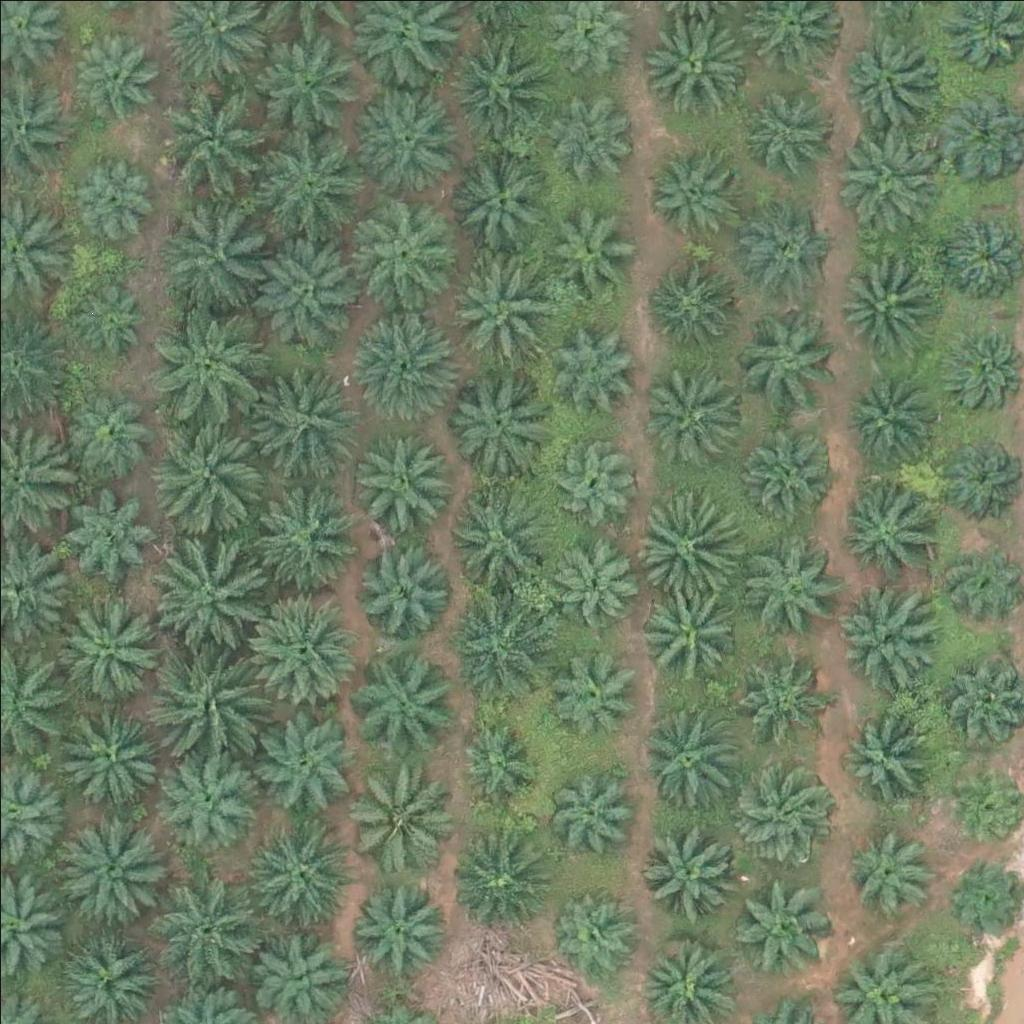Kelapa_Sawit: (245, 367, 358, 481), (155, 642, 268, 755), (146, 413, 259, 526), (252, 232, 365, 345), (245, 478, 358, 591), (348, 641, 461, 754), (346, 306, 459, 419), (440, 244, 553, 357), (442, 486, 555, 599), (441, 586, 554, 699), (247, 820, 360, 933), (152, 307, 264, 421), (443, 29, 555, 143), (632, 486, 744, 600), (828, 120, 940, 234), (51, 590, 163, 703), (150, 530, 262, 643), (161, 198, 273, 311), (156, 88, 268, 201), (254, 33, 366, 146), (255, 124, 367, 237), (247, 594, 359, 707), (348, 77, 460, 190), (639, 8, 751, 121), (53, 815, 165, 928), (149, 870, 261, 983), (339, 757, 451, 870), (56, 480, 156, 581), (356, 535, 456, 636), (348, 431, 448, 532), (352, 194, 452, 295), (456, 150, 556, 251), (445, 367, 545, 468), (646, 142, 746, 243), (633, 575, 733, 676), (741, 527, 841, 628), (739, 417, 839, 518), (734, 73, 834, 174), (834, 481, 934, 582), (66, 701, 166, 802), (157, 746, 257, 847), (257, 711, 357, 812), (345, 877, 445, 978), (733, 761, 833, 862), (841, 820, 941, 921), (645, 365, 745, 465), (736, 308, 836, 408), (736, 184, 836, 284), (835, 701, 935, 801), (832, 585, 932, 685), (831, 248, 931, 348), (838, 27, 938, 127), (451, 824, 551, 924), (637, 822, 737, 922), (638, 707, 738, 807), (729, 877, 829, 977), (554, 644, 642, 732), (550, 532, 638, 620), (545, 206, 633, 294), (540, 86, 628, 174), (652, 261, 740, 349), (731, 643, 819, 731), (844, 377, 932, 465), (454, 723, 542, 811), (68, 32, 155, 120), (68, 156, 155, 244), (57, 389, 144, 477), (549, 435, 636, 523), (548, 316, 635, 404), (548, 769, 635, 857), (551, 892, 638, 980), (71, 278, 146, 354)
